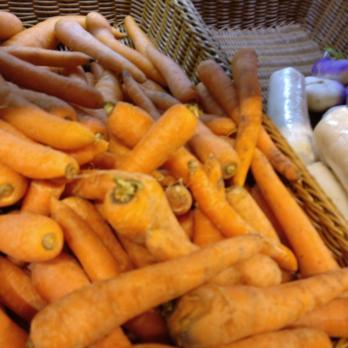Carrot: (0, 4, 120, 348), (123, 36, 205, 348), (206, 126, 315, 348), (195, 44, 265, 193)
